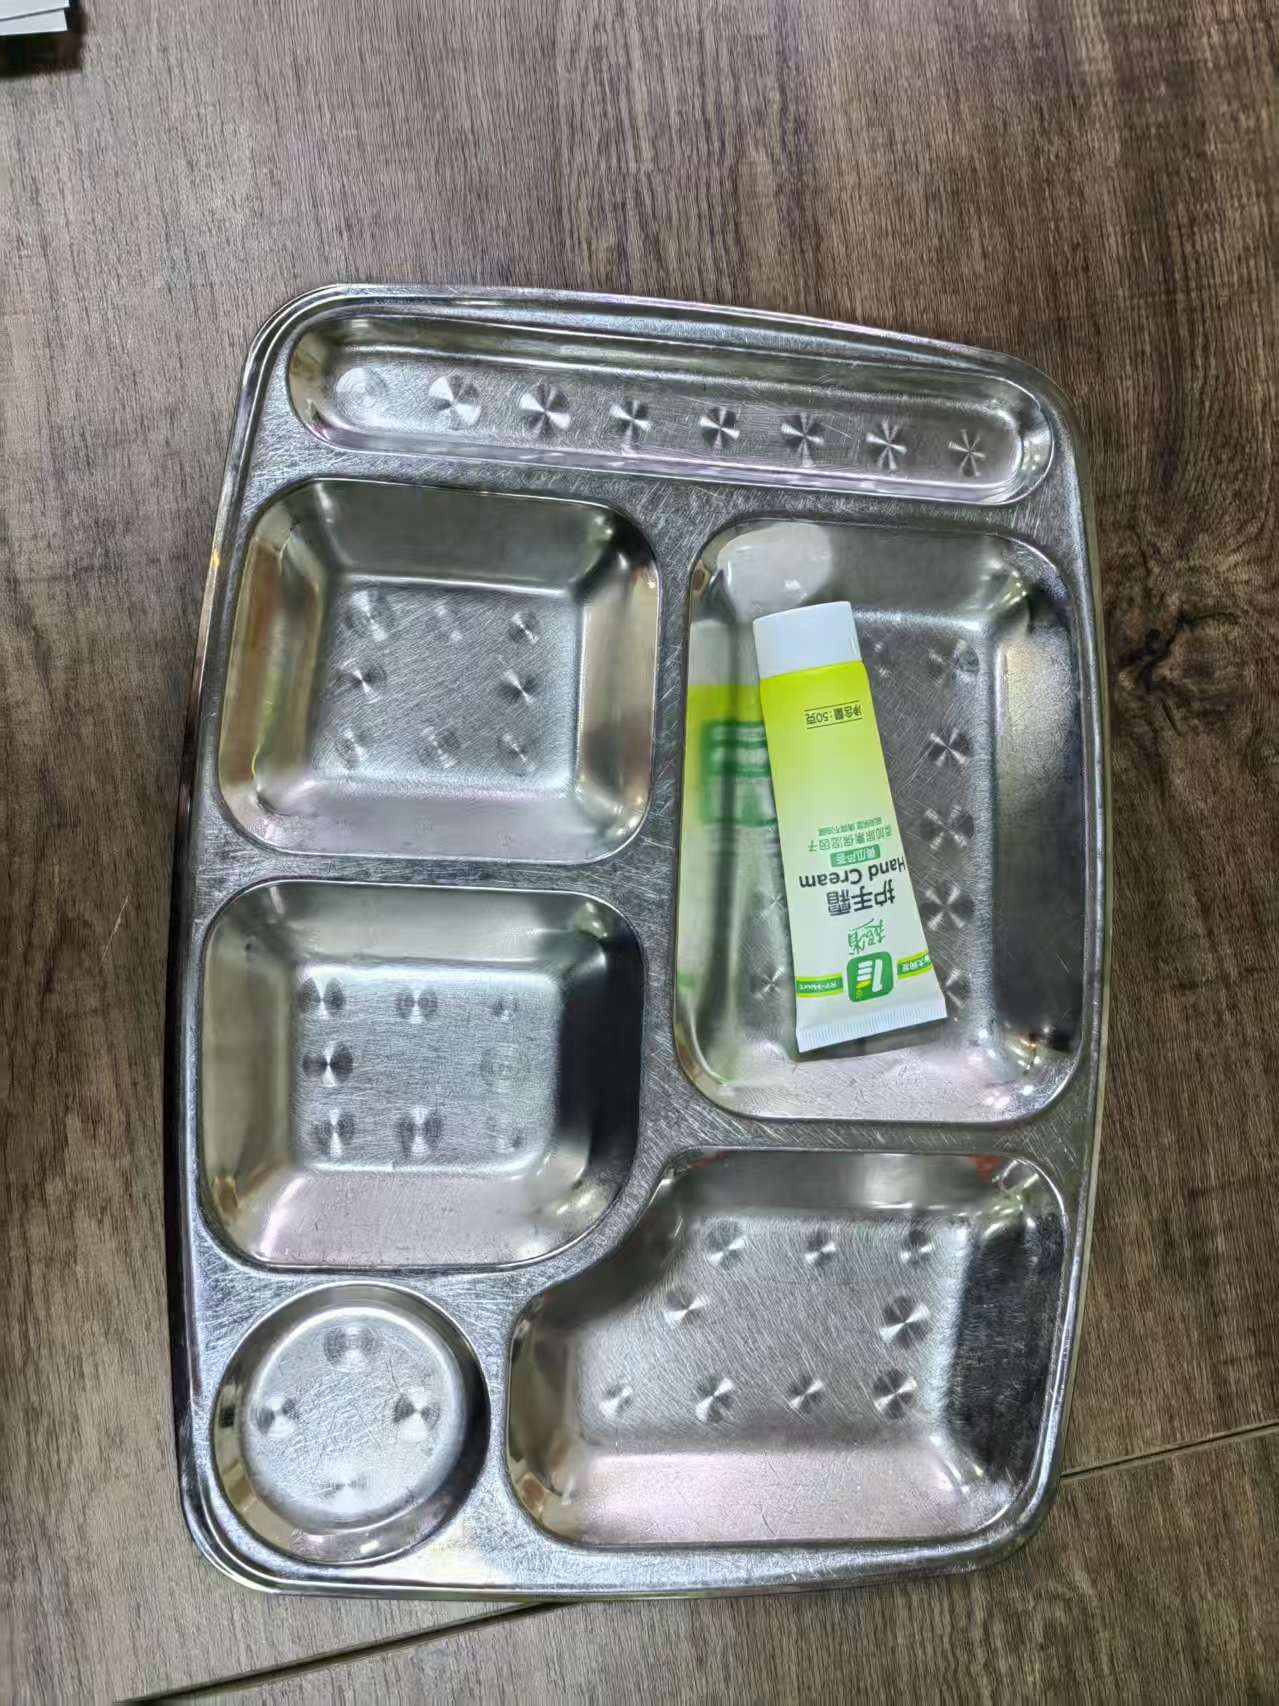mild: (749, 595, 954, 1057)
plate: (167, 280, 1113, 1600)
